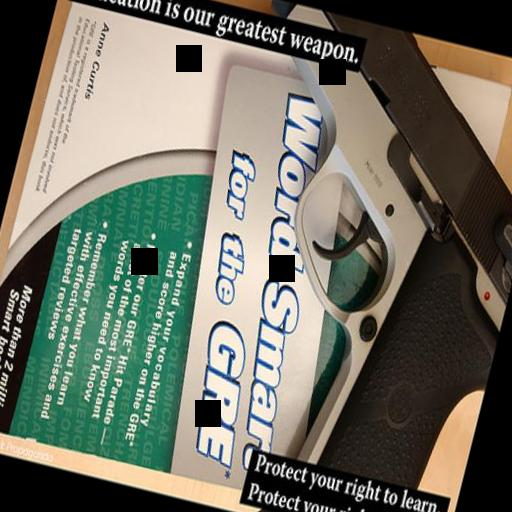Handgun: (147, 0, 512, 512)
